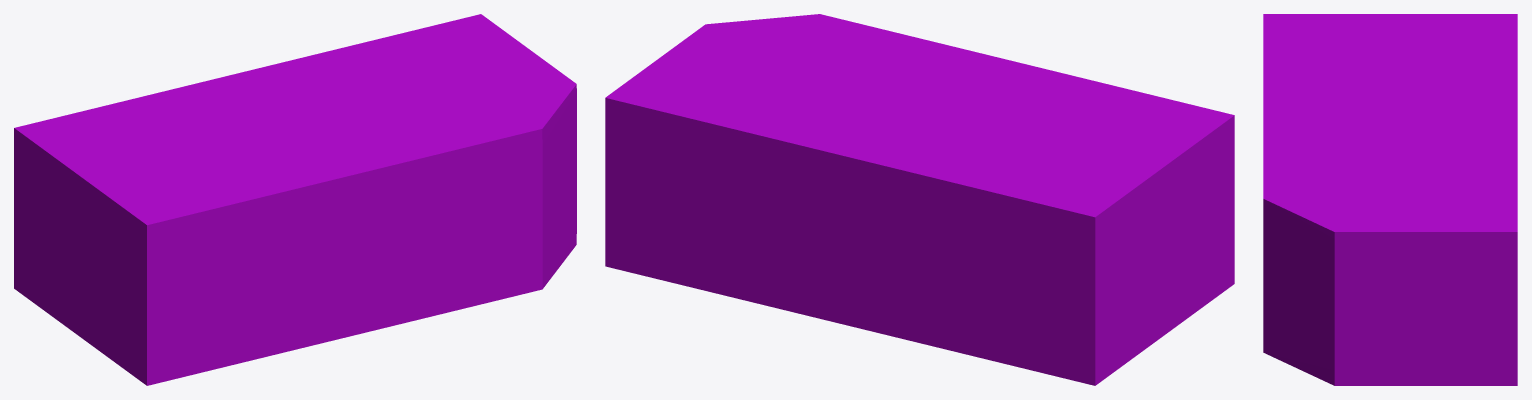
File: simple_example_hole_part_12.obj
The picture shows the model from 3 angles, left to right: view 1: azimuth 30°, elevation 25°; view 2: azimuth 150°, elevation 25°; view 3: azimuth 270°, elevation 25°; orthographic projection. The views are drawn at different scales.
Size of the model in its own units: 30.41 by 10 by 15.
